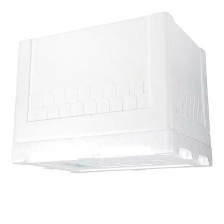foam_box: (4, 6, 218, 179)
